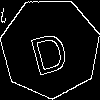D: (25, 23, 72, 76)
